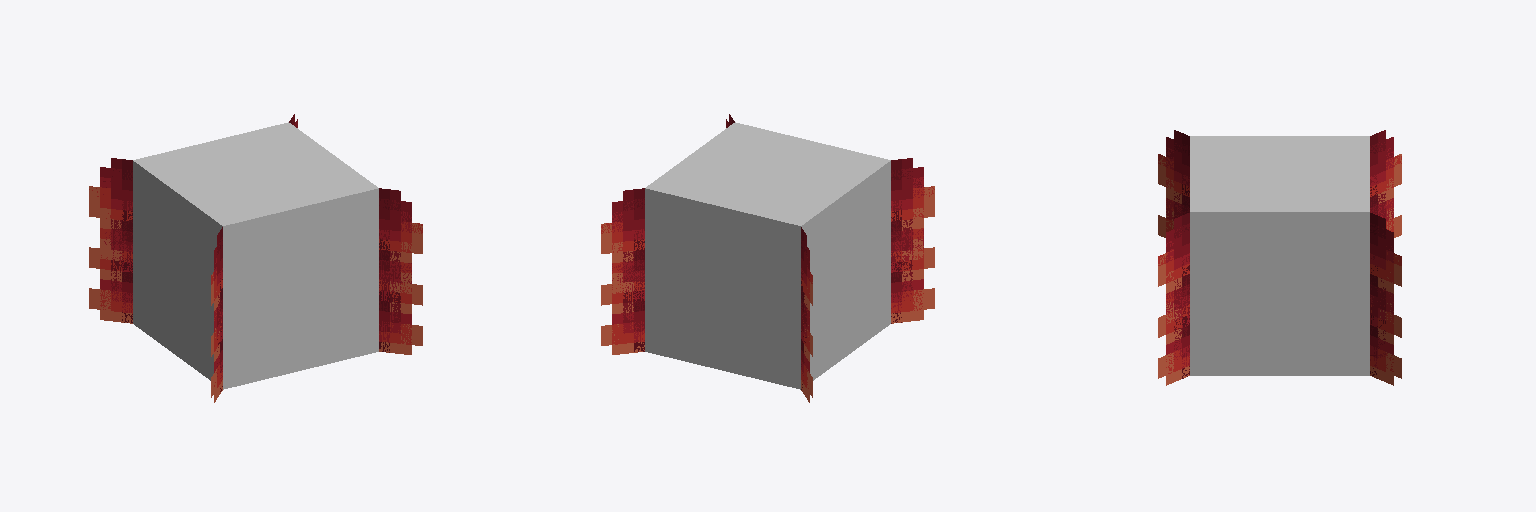
3 views of the same model, side by side, from view 1: azimuth 30°, elevation 25°; view 2: azimuth 150°, elevation 25°; view 3: azimuth 270°, elevation 25° (orthographic).
Parts seen in each view (by area): view 1: Cube; view 2: Cube; view 3: Cube.
Boxes of the visible parts, x1=… form: Cube: x1=89, y1=114, x2=422, y2=402; Cube: x1=601, y1=114, x2=934, y2=402; Cube: x1=1158, y1=130, x2=1401, y2=385.
Bounding box in the file's own units: 1.71 × 1 × 1.71.
2 materials, 1 textured.